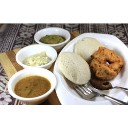idly: (58, 51, 90, 84), (75, 37, 100, 55)
